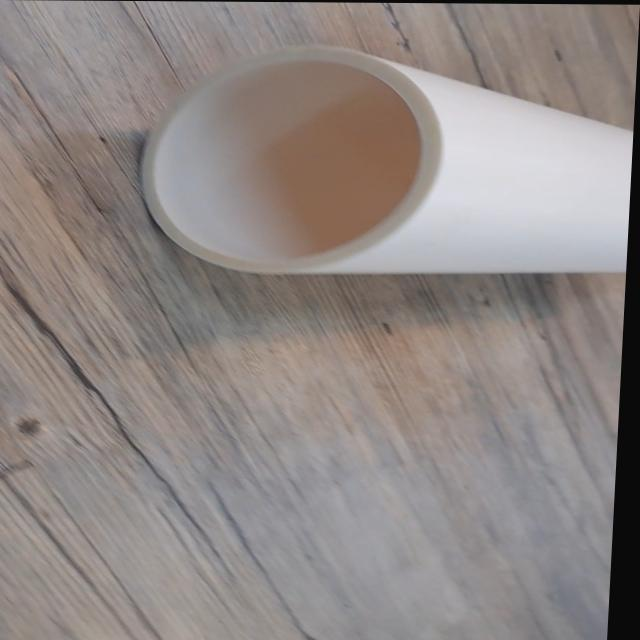CORAL: (113, 36, 638, 295)
